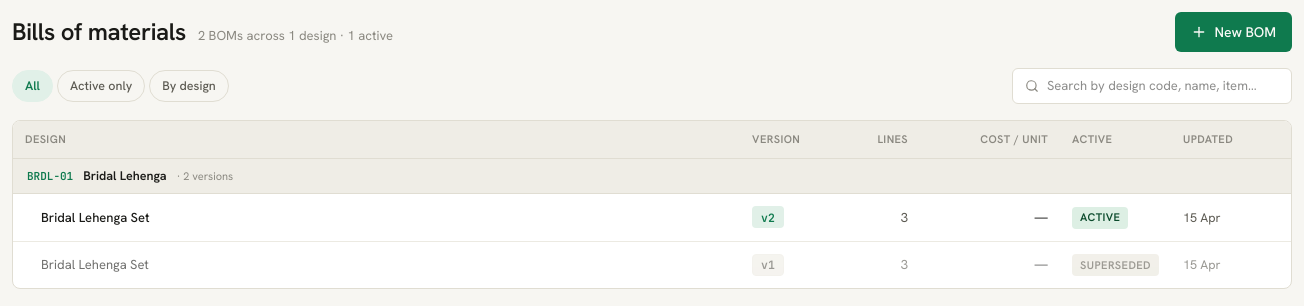
Test: BomsList (live-mode integration, TASK-TR-E1-BOMS) › clicking "Active only" refetches with active_only=true
The image size is (1304, 306).
Expected: the number of rows with test id "bom-version-row" is 2, [13, 194, 1291, 241]; [13, 241, 1291, 288]
Click the button "Active only" at (101, 86), box [57, 70, 145, 102]
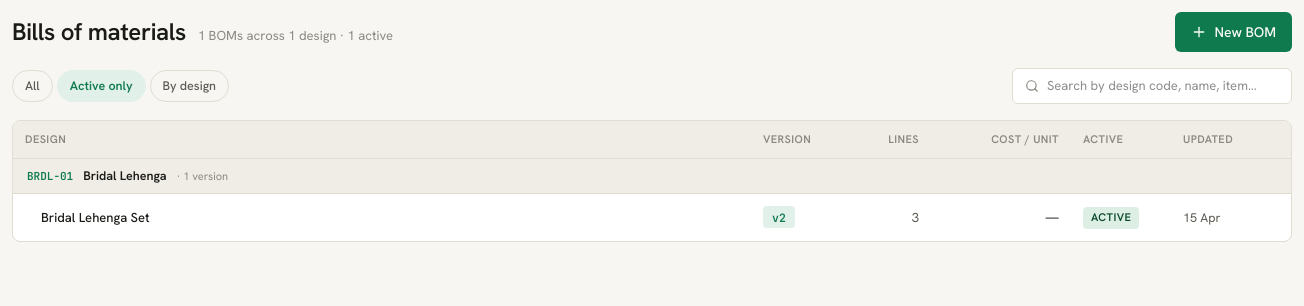
Now the number of rows with test id "bom-version-row" is 1, box [13, 194, 1291, 241]
